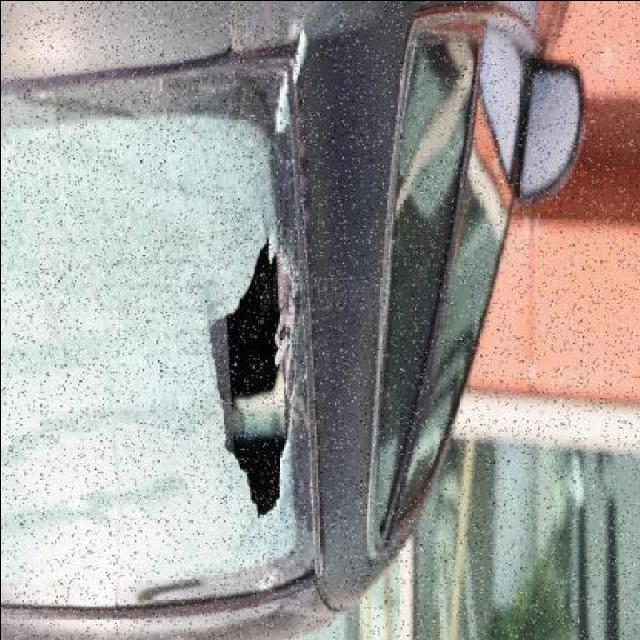Rear-windscreen-Damage: (0, 1, 349, 617)
